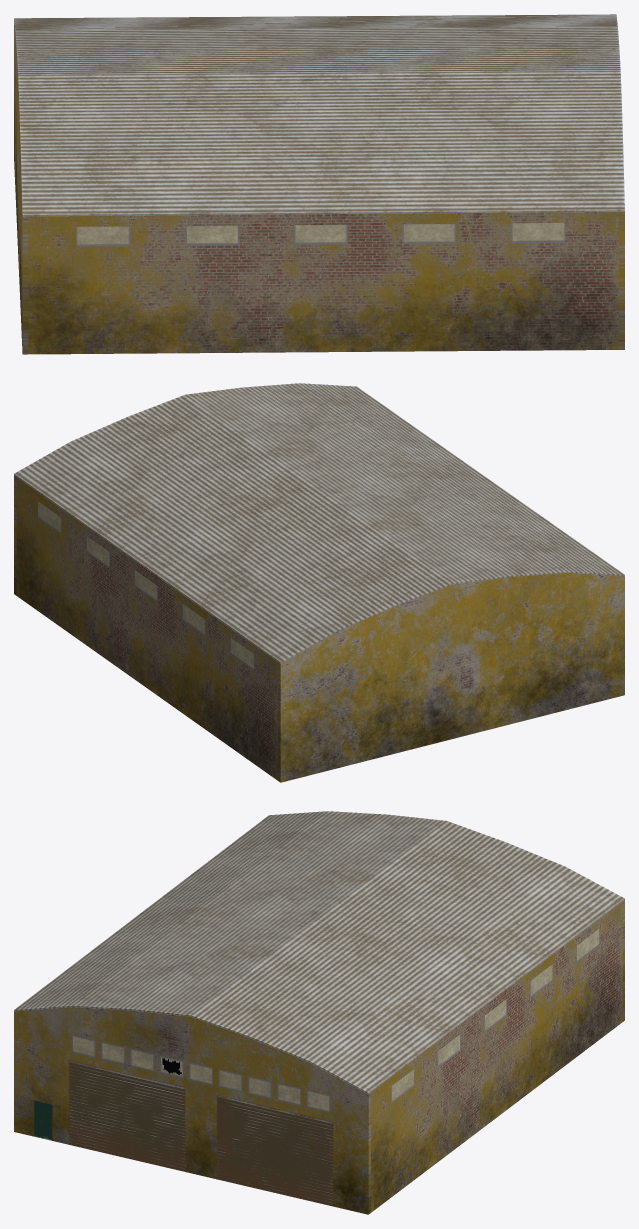
The model's file is Warehouse.fbx.
The picture shows the model from 3 angles, top to bottom: view 1: azimuth 30°, elevation 25°; view 2: azimuth 150°, elevation 25°; view 3: azimuth 270°, elevation 25°; orthographic projection. The views are drawn at different scales.
Visible parts, largest first — view 1: Warehouse_LP; view 2: Warehouse_LP; view 3: Warehouse_LP.
Part boxes in pixels (x1=…): Warehouse_LP: x1=14, y1=14, x2=624, y2=354; Warehouse_LP: x1=14, y1=383, x2=624, y2=782; Warehouse_LP: x1=14, y1=811, x2=624, y2=1214.
Bounding box in the file's own units: 4942 × 1311 × 4596.
